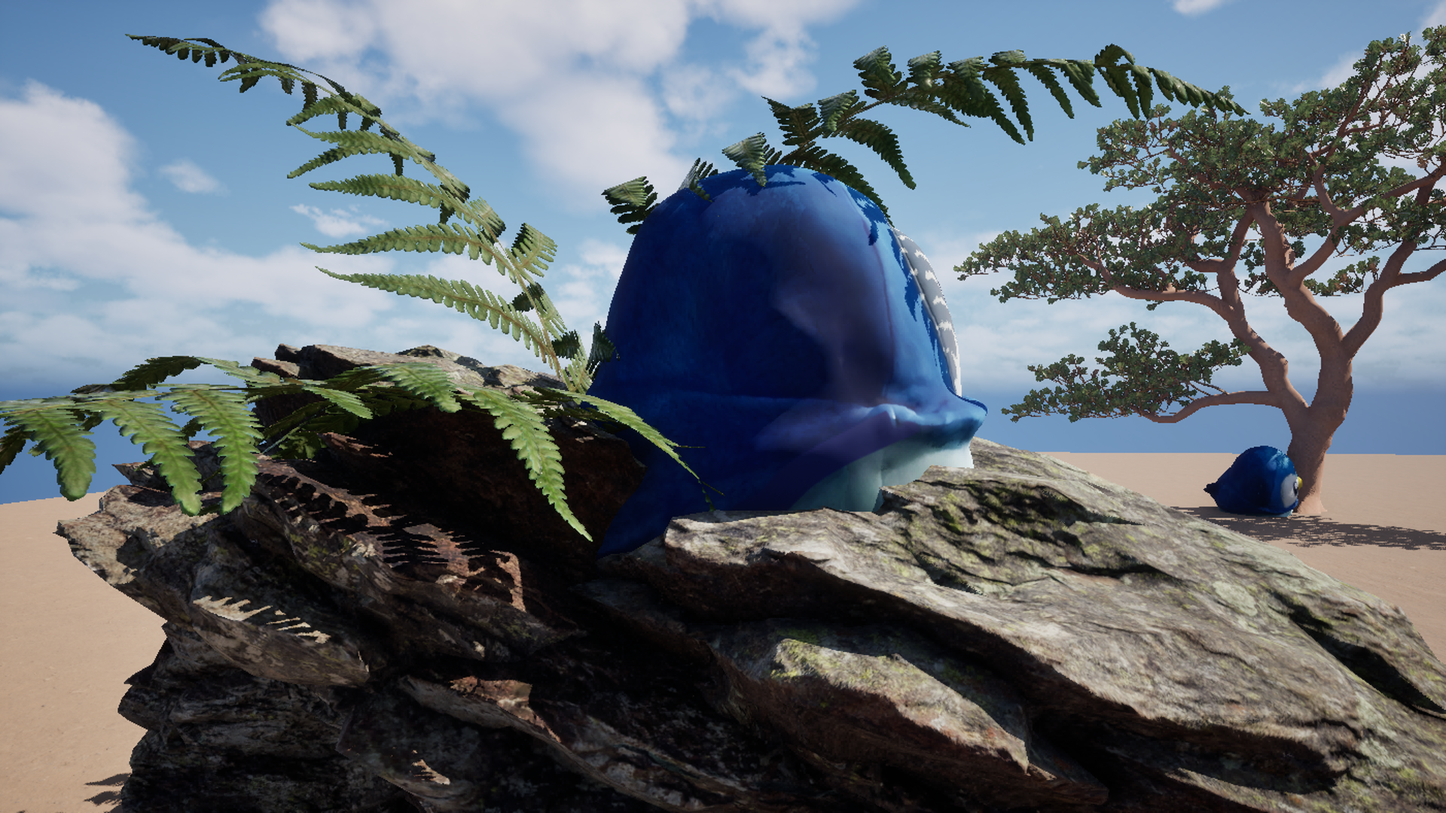Piplup: (223, 0, 1183, 813)
